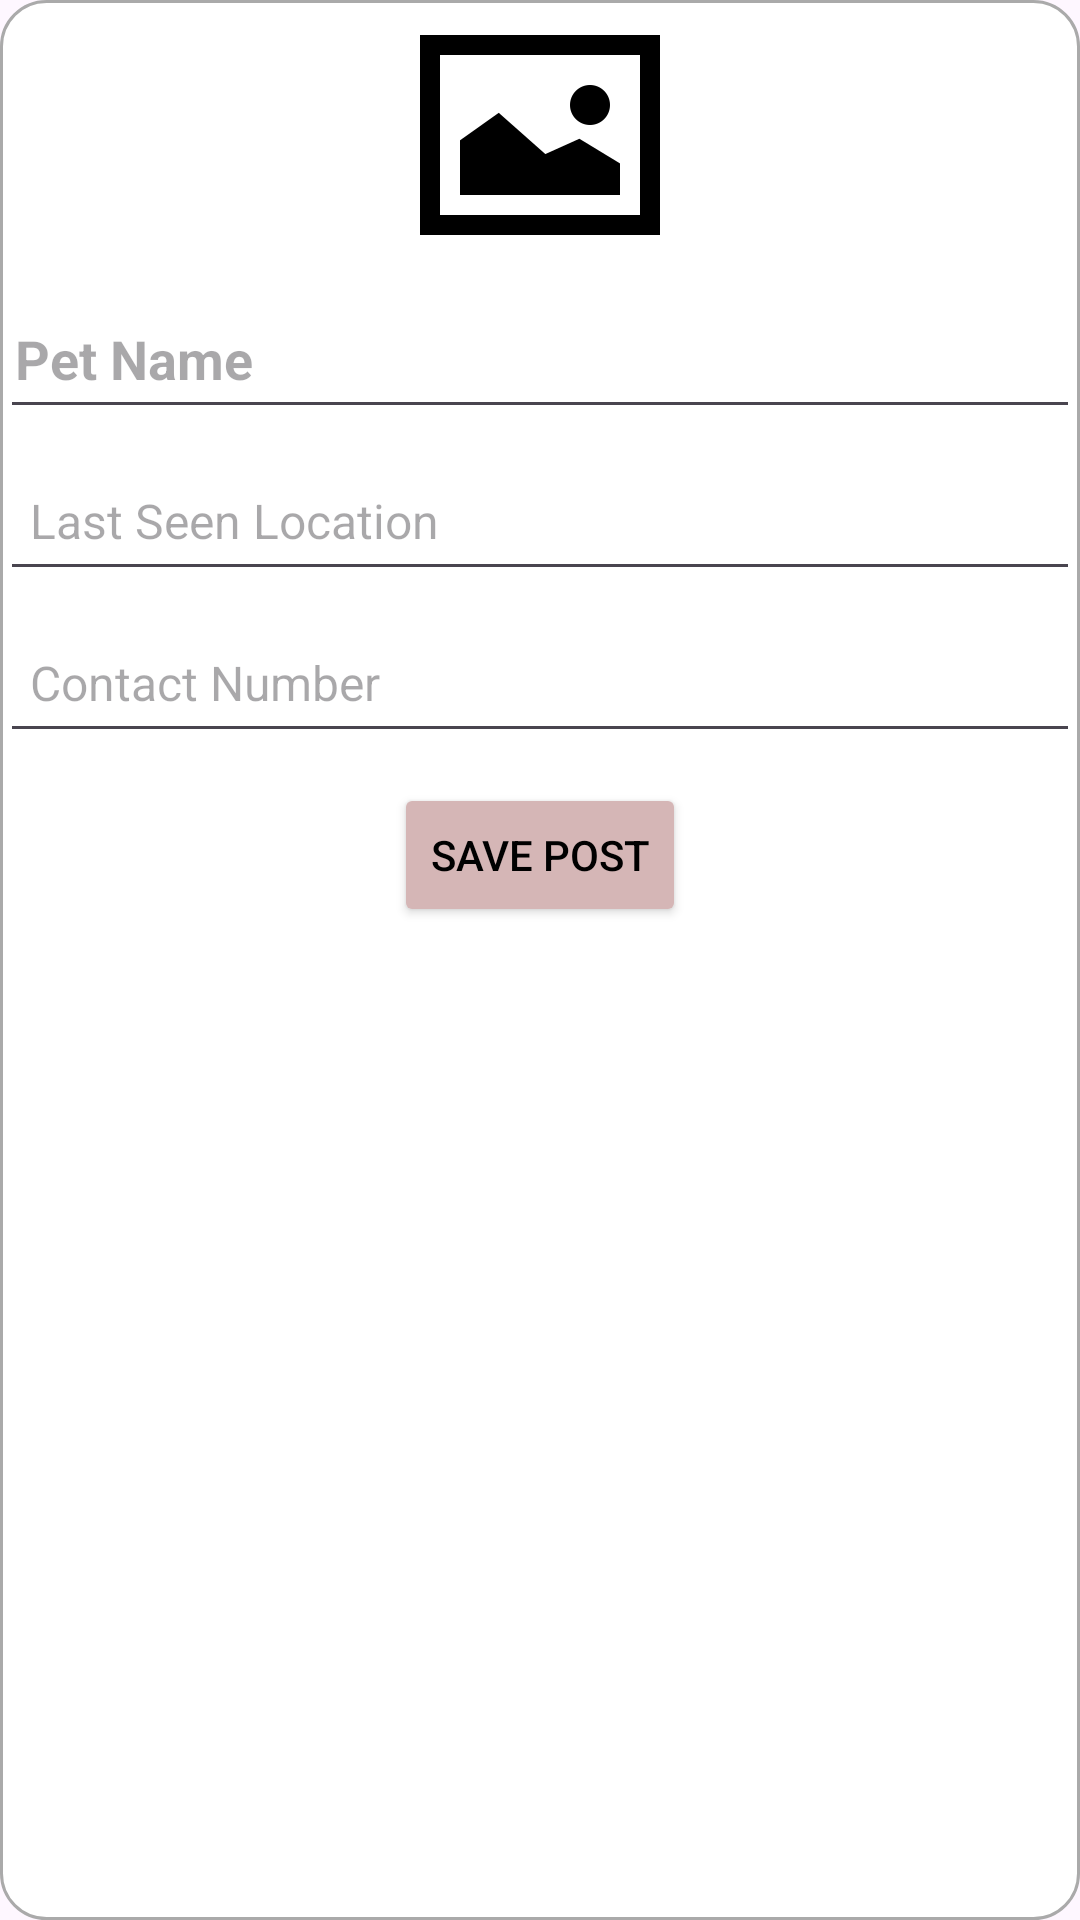

Point at icon controls on the screen. Image size 1080x1920, points as point (x, y).
choose pic: point (540, 135)
